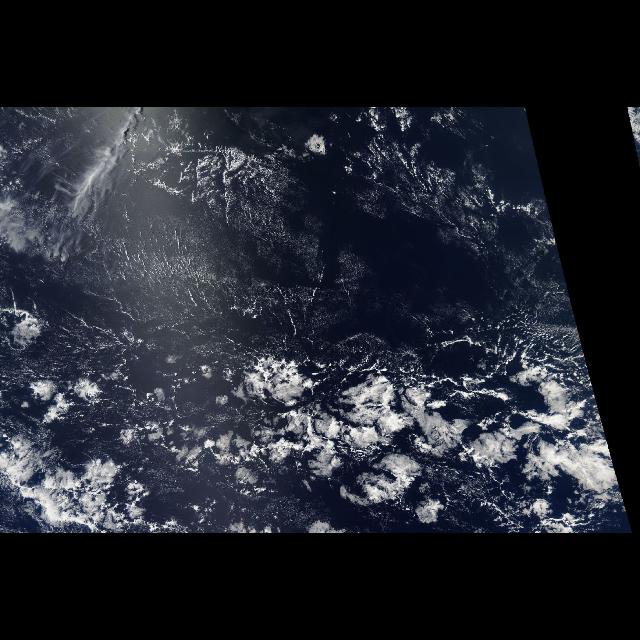Flower: (165, 337, 619, 518)
Sugar: (82, 166, 332, 350)
